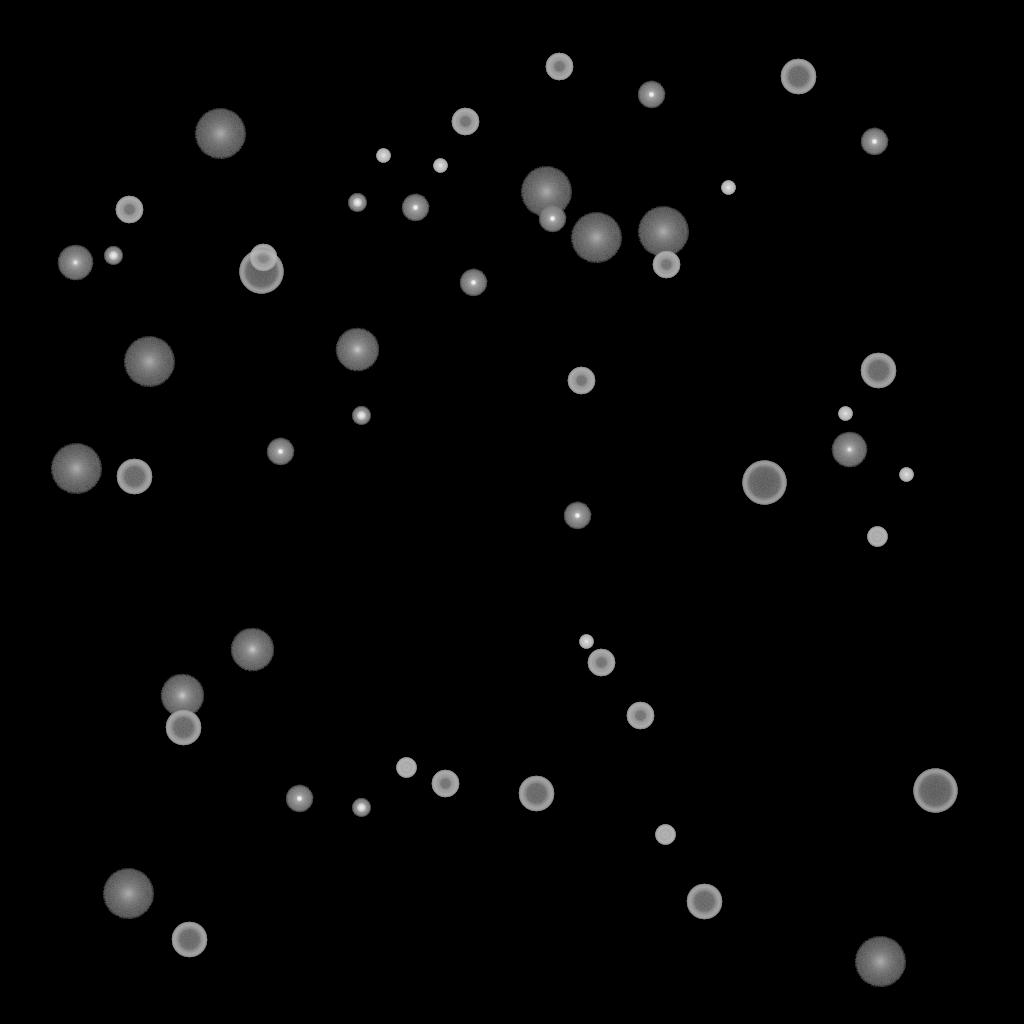depth:-10: (563, 502, 591, 530), (266, 438, 294, 466), (285, 785, 313, 813), (401, 194, 429, 222), (860, 128, 888, 156), (538, 205, 566, 233), (637, 81, 665, 109), (459, 269, 487, 297)
depth:-20: (352, 407, 370, 425), (104, 247, 122, 265), (352, 799, 370, 817), (348, 194, 366, 212)
depth:-30: (899, 468, 913, 482), (838, 407, 852, 421), (721, 181, 735, 195), (433, 159, 447, 173), (579, 635, 593, 649), (376, 149, 390, 163)
depth:-40: (396, 758, 416, 778), (655, 825, 675, 845), (867, 527, 887, 547)
depth:-50: (249, 244, 277, 272), (587, 649, 615, 677), (115, 196, 143, 224), (652, 251, 680, 279), (567, 367, 595, 395), (451, 108, 479, 136), (626, 702, 654, 730), (431, 770, 459, 798), (545, 53, 573, 81)
depth:-60: (860, 353, 896, 389), (116, 459, 152, 495), (686, 884, 722, 920), (171, 922, 207, 958), (780, 59, 816, 95), (518, 776, 554, 812), (165, 710, 201, 746)
depth:-70: (239, 250, 283, 294), (742, 461, 786, 505), (913, 769, 957, 813)
depth:0: (57, 245, 93, 281), (831, 432, 867, 468)
depth:10: (160, 674, 204, 718), (335, 328, 379, 372), (230, 628, 274, 672)
depth:20: (520, 167, 572, 217), (50, 444, 102, 494), (637, 207, 689, 257), (570, 213, 622, 263), (854, 937, 906, 987), (123, 337, 175, 387), (102, 869, 154, 919), (194, 109, 246, 159)
